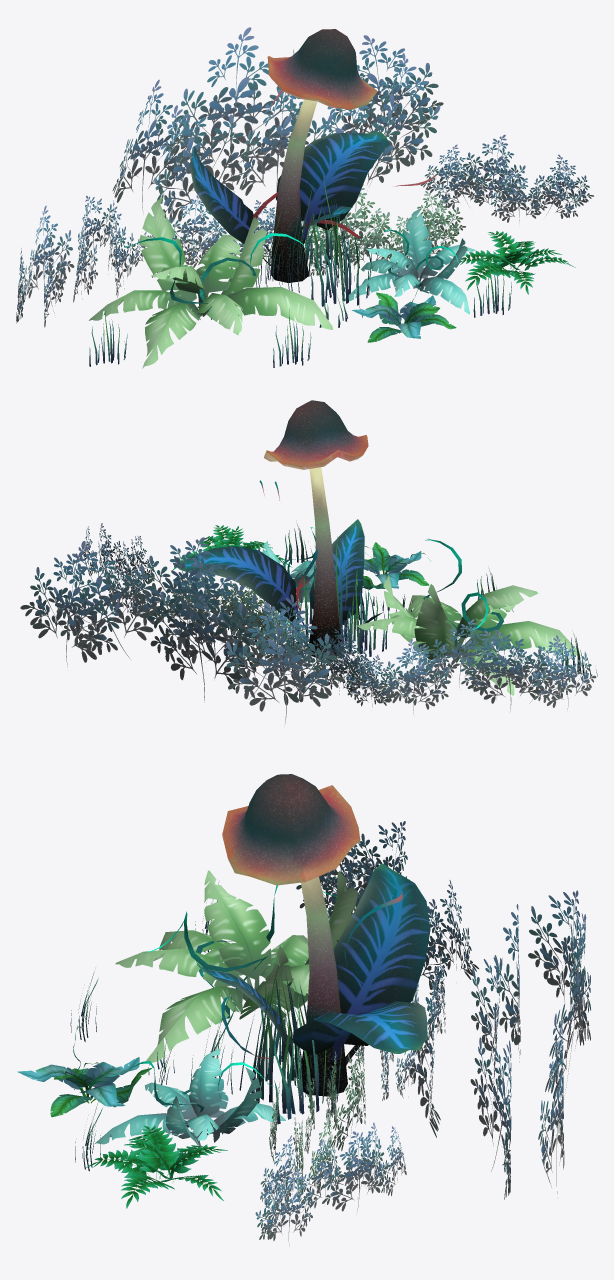
3 views of the same model, one above another, from view 1: azimuth 30°, elevation 25°; view 2: azimuth 150°, elevation 25°; view 3: azimuth 270°, elevation 25° (orthographic). The views are drawn at different scales.
Parts seen in each view (by area): view 1: pCylinder2, Mesh_BushMisc_08, Mesh_FernBlue_02, Mesh_BushMisc_07, Mesh_FernBlue_01, Mesh_BushMisc_06, Mesh_BushMisc_04, Herb_S, Mesh_Fern_01, Mesh_Fern_02, Mesh_BushMisc_02, Herb_M1 (+2 smaller); view 2: Mesh_BushMisc_08, pCylinder2, Mesh_BushMisc_06, Mesh_FernBlue_02, Mesh_BushMisc_02, Herb_S, Mesh_BushMisc_07, Mesh_BushMisc_04, Mesh_Fern_02, Mesh_Fern_01, Mesh_FernBlue_01; view 3: pCylinder2, Mesh_FernBlue_02, Mesh_BushMisc_08, Mesh_FernBlue_01, Mesh_BushMisc_07, Herb_S, Mesh_BushMisc_06, Mesh_Fern_01, Mesh_BushMisc_04, Mesh_Fern_02, Mesh_BushMisc_02.
Boxes of the visible parts, x1=… form: pCylinder2: x1=190, y1=29, x2=440, y2=282; Mesh_BushMisc_08: x1=112, y1=27, x2=443, y2=222; Mesh_FernBlue_02: x1=89, y1=194, x2=332, y2=368; Mesh_BushMisc_07: x1=420, y1=134, x2=594, y2=222; Mesh_FernBlue_01: x1=345, y1=209, x2=475, y2=314; Mesh_BushMisc_06: x1=16, y1=195, x2=135, y2=327; Mesh_BushMisc_04: x1=301, y1=184, x2=465, y2=276; Herb_S: x1=256, y1=174, x2=371, y2=306; Mesh_Fern_01: x1=460, y1=231, x2=575, y2=294; Mesh_Fern_02: x1=352, y1=287, x2=456, y2=342; Mesh_BushMisc_02: x1=131, y1=195, x2=275, y2=277; Herb_M1: x1=273, y1=309, x2=311, y2=367; Mesh_BushMisc_08: x1=20, y1=537, x2=344, y2=724; pCylinder2: x1=178, y1=400, x2=382, y2=658; Mesh_BushMisc_06: x1=378, y1=619, x2=596, y2=714; Mesh_FernBlue_02: x1=355, y1=539, x2=580, y2=695; Mesh_BushMisc_02: x1=270, y1=626, x2=396, y2=707; Herb_S: x1=279, y1=536, x2=388, y2=656; Mesh_BushMisc_07: x1=83, y1=523, x2=154, y2=618; Mesh_BushMisc_04: x1=165, y1=576, x2=309, y2=660; Mesh_Fern_02: x1=362, y1=542, x2=430, y2=589; Mesh_Fern_01: x1=172, y1=525, x2=292, y2=570; Mesh_FernBlue_01: x1=258, y1=527, x2=353, y2=624; pCylinder2: x1=196, y1=774, x2=430, y2=1096; Mesh_FernBlue_02: x1=115, y1=870, x2=358, y2=1062; Mesh_BushMisc_08: x1=409, y1=890, x2=590, y2=1199; Mesh_FernBlue_01: x1=95, y1=1048, x2=285, y2=1145; Mesh_BushMisc_07: x1=255, y1=1122, x2=406, y2=1246; Herb_S: x1=191, y1=956, x2=341, y2=1124; Mesh_BushMisc_06: x1=296, y1=821, x2=478, y2=992; Mesh_Fern_01: x1=86, y1=1125, x2=227, y2=1208; Mesh_BushMisc_04: x1=269, y1=1048, x2=365, y2=1197; Mesh_Fern_02: x1=17, y1=1026, x2=152, y2=1117; Mesh_BushMisc_02: x1=357, y1=966, x2=445, y2=1100.
Size of what is drawn, in the model's own units: 10.06 by 4.72 by 6.85.
3 materials, 3 textured.
